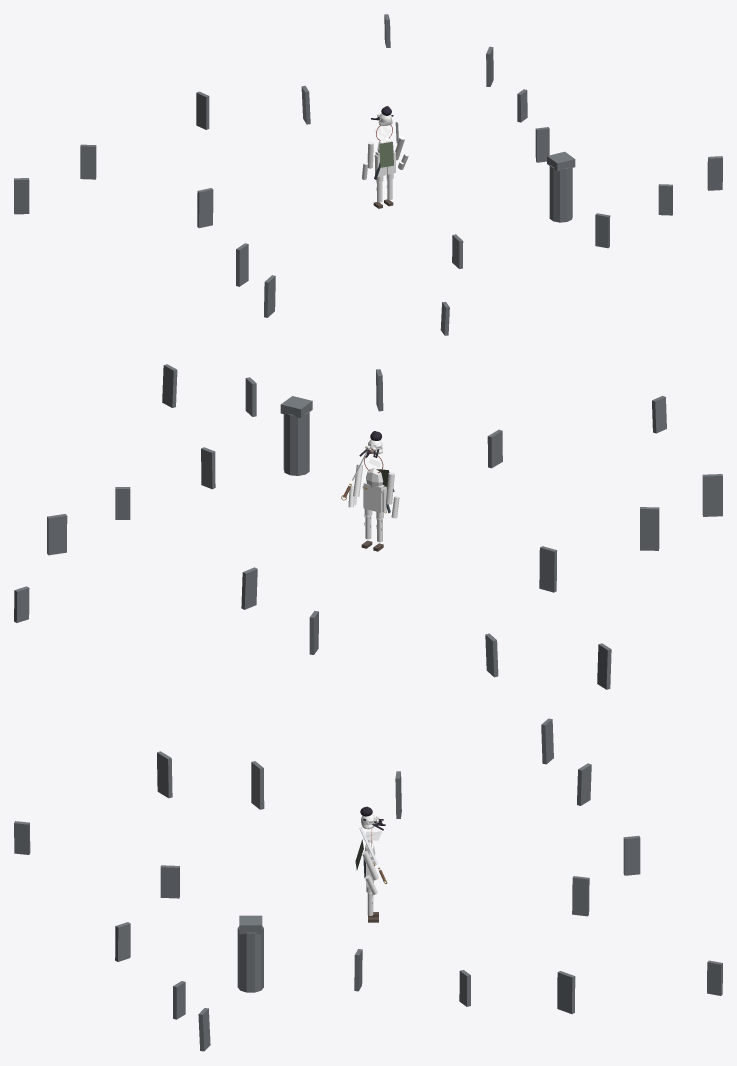
Rendered from ronin_cinematic_v0.6.glb.
The picture shows the model from 3 angles, top to bottom: view 1: azimuth 30°, elevation 25°; view 2: azimuth 150°, elevation 25°; view 3: azimuth 270°, elevation 25°; orthographic projection. The views are drawn at different scales.
Parts seen in each view (by area): view 1: Env_StoneLantern, Env_Gravestone_8, Env_Gravestone_6, Env_Gravestone_7, Env_Gravestone_15, Env_Gravestone_9; view 2: Env_StoneLantern, Env_Gravestone_10, Env_Gravestone_9, Env_Gravestone_2, Env_Gravestone_8, Env_Gravestone_4, Env_Gravestone_7, Env_Gravestone_15, Env_Gravestone_0, Env_Gravestone_3, Env_Gravestone_1, Env_LanternCap (+1 smaller); view 3: Env_StoneLantern, Env_Gravestone_2, Env_Gravestone_4, Env_Gravestone_5, Env_Gravestone_12, Env_Gravestone_10, Env_Gravestone_13, Env_Gravestone_9, Env_Gravestone_6, Env_Gravestone_11, Env_Gravestone_3.
Part boxes in pixels (left/top/right/bottom): Env_StoneLantern: left=549, top=165, right=572, bottom=222; Env_Gravestone_8: left=197, top=188, right=213, bottom=228; Env_Gravestone_6: left=80, top=144, right=96, bottom=179; Env_Gravestone_7: left=14, top=178, right=29, bottom=214; Env_Gravestone_15: left=707, top=156, right=722, bottom=190; Env_Gravestone_9: left=236, top=243, right=248, bottom=286; Env_StoneLantern: left=283, top=411, right=309, bottom=475; Env_Gravestone_10: left=702, top=474, right=722, bottom=516; Env_Gravestone_9: left=640, top=507, right=659, bottom=550; Env_Gravestone_2: left=47, top=514, right=67, bottom=555; Env_Gravestone_8: left=539, top=546, right=557, bottom=592; Env_Gravestone_4: left=241, top=567, right=257, bottom=609; Env_Gravestone_7: left=597, top=643, right=611, bottom=689; Env_Gravestone_15: left=162, top=364, right=177, bottom=407; Env_Gravestone_0: left=201, top=447, right=215, bottom=489; Env_Gravestone_3: left=14, top=586, right=29, bottom=622; Env_Gravestone_1: left=115, top=487, right=130, bottom=519; Env_LanternCap: left=280, top=396, right=312, bottom=418; Env_StoneLantern: left=237, top=926, right=263, bottom=992; Env_Gravestone_2: left=557, top=971, right=575, bottom=1013; Env_Gravestone_4: left=572, top=876, right=589, bottom=916; Env_Gravestone_5: left=623, top=835, right=640, bottom=875; Env_Gravestone_12: left=160, top=865, right=179, bottom=898; Env_Gravestone_10: left=157, top=751, right=172, bottom=798; Env_Gravestone_13: left=115, top=922, right=130, bottom=961; Env_Gravestone_9: left=251, top=761, right=264, bottom=809; Env_Gravestone_6: left=577, top=763, right=591, bottom=805; Env_Gravestone_11: left=14, top=821, right=30, bottom=854; Env_Gravestone_3: left=707, top=960, right=722, bottom=995.
Size of what is drawn, in the model's own units: 10.83 by 1.92 by 10.81.
